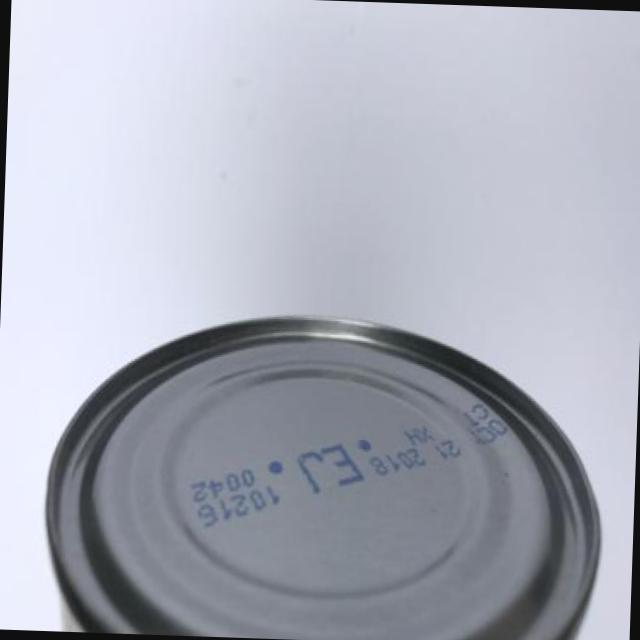kim_loai: (48, 317, 600, 640)
